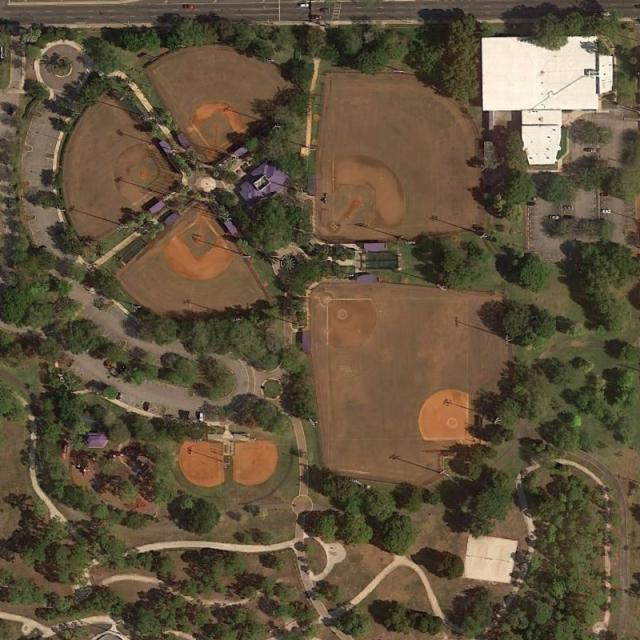vehicle: (310, 14, 322, 21), (142, 401, 150, 411), (183, 3, 194, 10), (321, 7, 332, 14), (600, 191, 611, 198), (562, 204, 574, 210), (586, 147, 597, 153), (300, 2, 310, 8), (564, 214, 574, 220), (602, 208, 611, 214), (199, 412, 204, 422), (550, 215, 560, 220)
